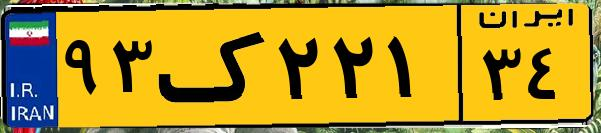1: (385, 28, 445, 110)
2: (270, 28, 330, 110), (330, 28, 385, 110)
3: (475, 38, 525, 113), (110, 28, 158, 98)
4: (525, 38, 570, 115)
9: (57, 26, 110, 100)
ک: (158, 12, 270, 120)
